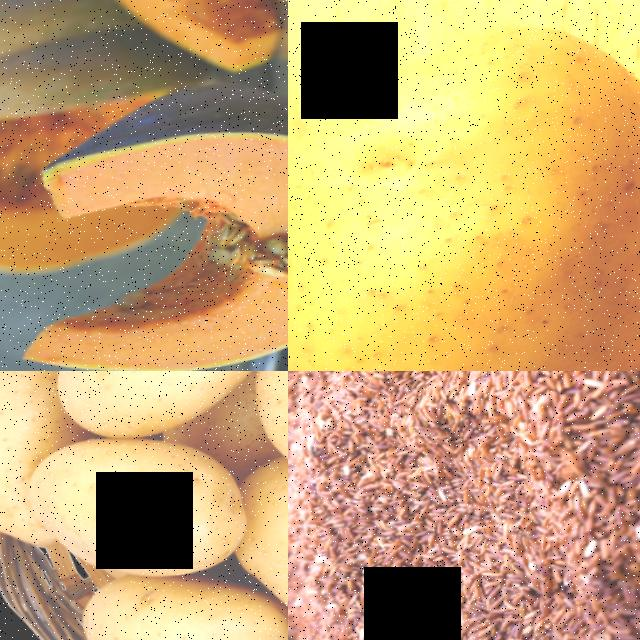potato: (288, 0, 640, 371), (25, 420, 264, 587), (78, 554, 288, 640), (45, 371, 280, 443), (0, 371, 76, 556), (227, 450, 288, 640)
pumpkin: (0, 62, 288, 371), (56, 0, 288, 97)
red rice: (288, 371, 640, 640)
